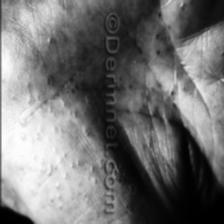Non-Cancerous Skin Condition: (1, 37, 102, 214), (125, 2, 179, 172)
